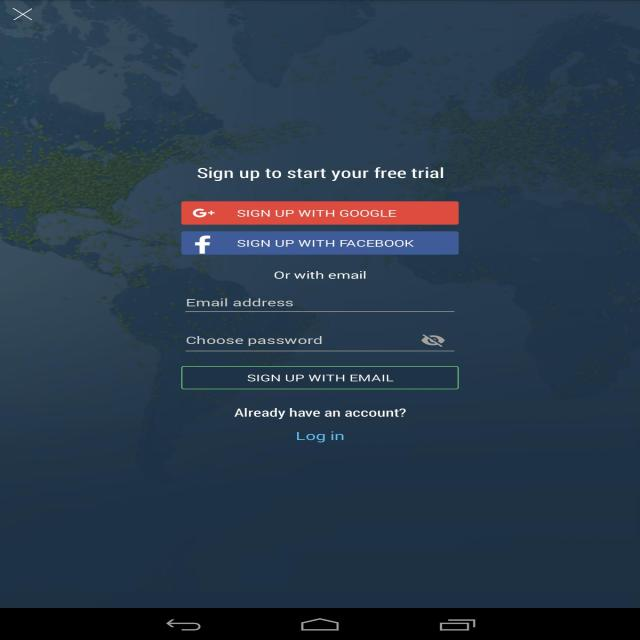button: (182, 366, 458, 390), (182, 202, 456, 224), (182, 232, 459, 253), (5, 3, 41, 25), (416, 332, 449, 348)
field: (184, 325, 455, 352), (184, 286, 454, 312)
heading: (198, 166, 447, 183)
image: (0, 0, 640, 606)
label: (184, 335, 325, 349), (185, 297, 297, 309)
link: (291, 427, 349, 443)
text: (232, 408, 410, 420), (270, 269, 372, 282)
